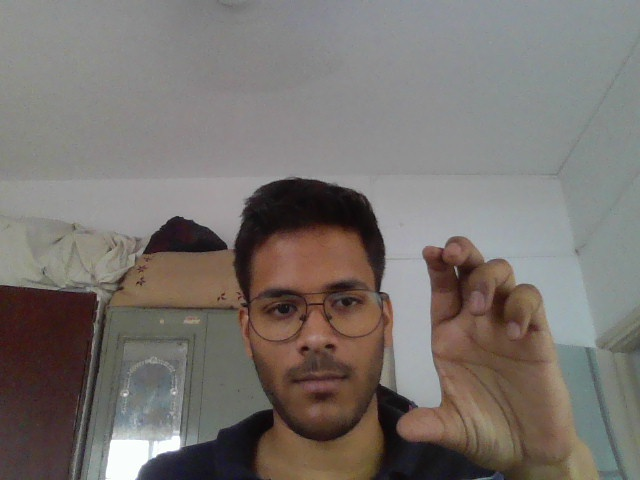no: (370, 220, 599, 478)
